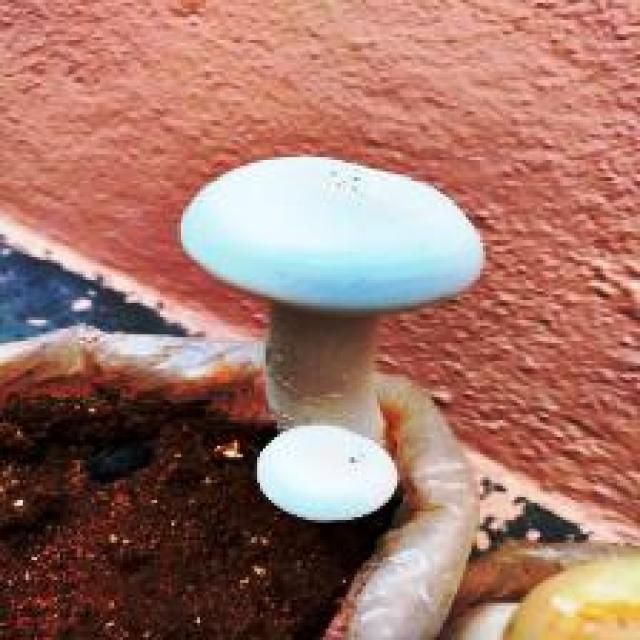death-cap: (174, 152, 486, 314)
field-mushroom: (174, 151, 486, 523)
